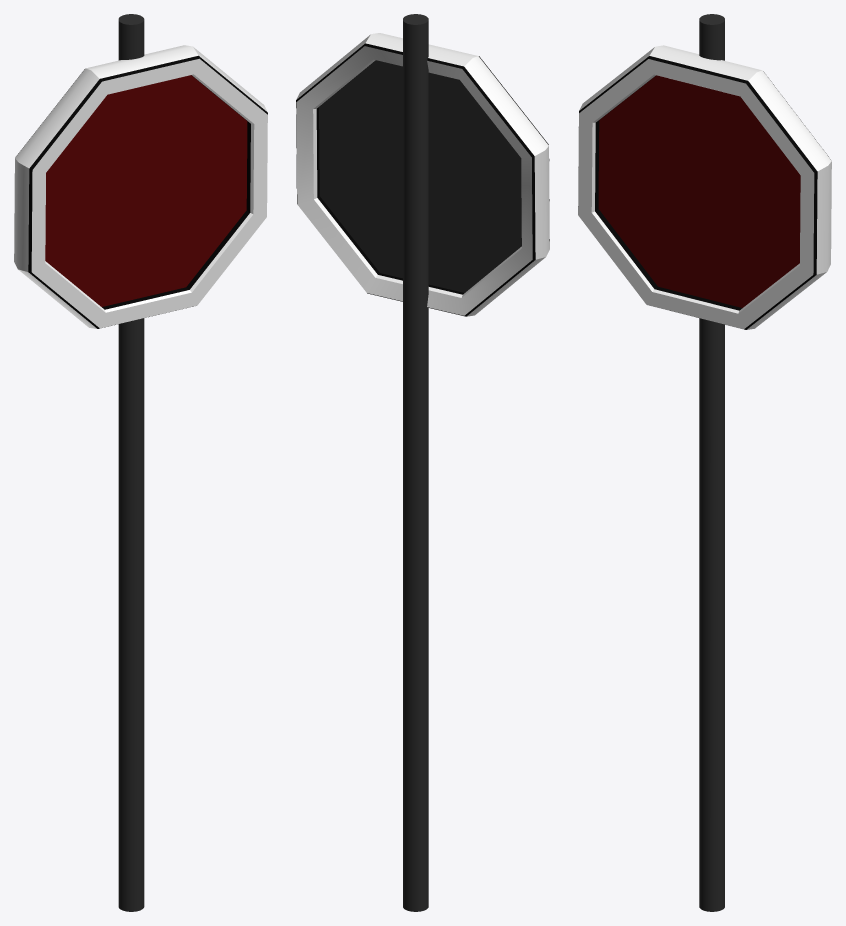
The model's file is SeñalStop.FBX.
The picture shows the model from 3 angles, left to right: view 1: azimuth 30°, elevation 25°; view 2: azimuth 150°, elevation 25°; view 3: azimuth 330°, elevation 25°; orthographic projection.
Visible parts, largest first — view 1: Cylinder002, Cylinder001; view 2: Cylinder002, Cylinder001; view 3: Cylinder002, Cylinder001.
Boxes of the visible parts, <box> form: Cylinder002: <box>14,45,267,328</box>; Cylinder001: <box>118,14,144,911</box>; Cylinder002: <box>296,33,549,316</box>; Cylinder001: <box>403,14,428,911</box>; Cylinder002: <box>578,45,831,329</box>; Cylinder001: <box>699,14,724,911</box>.
Bounding box in the file's own units: 30.17 × 104 × 5.01.
